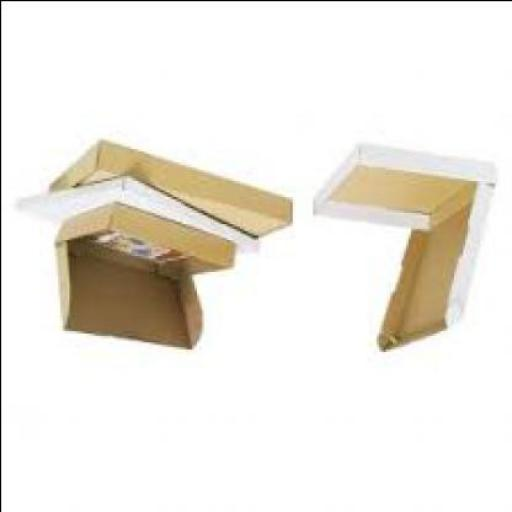cardboard: (316, 148, 498, 353), (57, 203, 237, 350), (52, 141, 294, 239), (22, 174, 256, 260)
